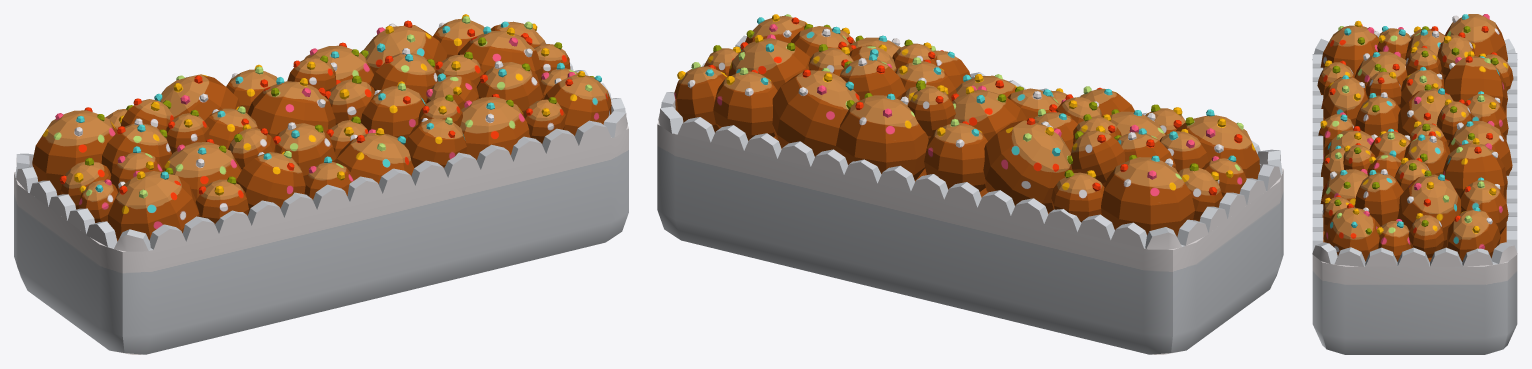
Rendered from SM_SweetSkin_05.fbx.
3 views of the same model, side by side, from view 1: azimuth 30°, elevation 25°; view 2: azimuth 150°, elevation 25°; view 3: azimuth 270°, elevation 25° (orthographic). The views are drawn at different scales.
Parts seen in each view (by area): view 1: SweetSkin_05, pCylinder20, pSphere58, pSphere92, pSphere99, pSphere118, pCylinder22, pSphere91, pSphere112, pSphere59, pCylinder21, pSphere106 (+29 smaller); view 2: SweetSkin_05, pCylinder20, pSphere106, pSphere92, pSphere95, pSphere113, pCylinder24, pCylinder25, pSphere58, pSphere115, pSphere99, pCylinder26 (+25 smaller); view 3: SweetSkin_05, pCylinder20, pSphere115, pSphere113, pSphere106, pSphere112, pCylinder26, pSphere58, pSphere111, pSphere92, pSphere99, pCylinder22 (+27 smaller).
Boxes of the visible parts, box(x1,y1,x2,y2) form: SweetSkin_05: box(14, 125, 628, 354); pCylinder20: box(15, 43, 627, 251); pSphere58: box(108, 167, 199, 241); pSphere92: box(32, 107, 117, 195); pSphere99: box(247, 77, 335, 139); pSphere118: box(460, 93, 530, 159); pCylinder22: box(236, 151, 305, 215); pSphere91: box(335, 128, 413, 183); pSphere112: box(543, 71, 611, 135); pSphere59: box(162, 139, 241, 199); pCylinder21: box(361, 81, 426, 140); pSphere106: box(154, 74, 240, 120); SweetSkin_05: box(657, 120, 1283, 354); pCylinder20: box(658, 35, 1282, 249); pSphere106: box(983, 117, 1073, 213); pSphere92: box(1101, 155, 1194, 236); pSphere95: box(836, 93, 928, 180); pSphere113: box(772, 68, 860, 156); pCylinder24: box(924, 119, 987, 191); pCylinder25: box(713, 67, 777, 140); pSphere58: box(1176, 109, 1259, 179); pSphere115: box(728, 34, 810, 90); pSphere99: box(951, 85, 1027, 141); pCylinder26: box(674, 62, 727, 132); SweetSkin_05: box(1312, 255, 1517, 354); pCylinder20: box(1312, 34, 1517, 266); pSphere115: box(1397, 170, 1461, 249); pSphere113: box(1442, 138, 1507, 198); pSphere106: box(1444, 51, 1507, 112); pSphere112: box(1323, 203, 1380, 261); pCylinder26: box(1447, 207, 1500, 261); pSphere58: box(1320, 20, 1379, 76); pSphere111: box(1355, 169, 1403, 226); pSphere92: box(1445, 14, 1507, 61); pSphere99: box(1397, 84, 1453, 145); pCylinder22: box(1321, 75, 1367, 126).
Size of the model in its own units: 18.06 by 6.28 by 7.15.
